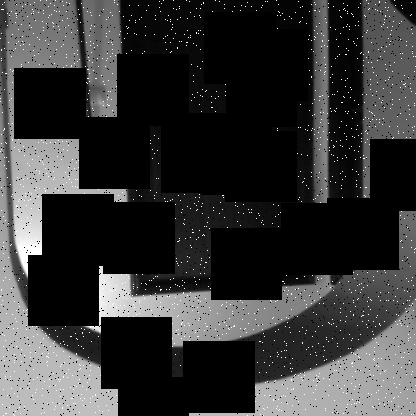Porte: (115, 1, 319, 299)
